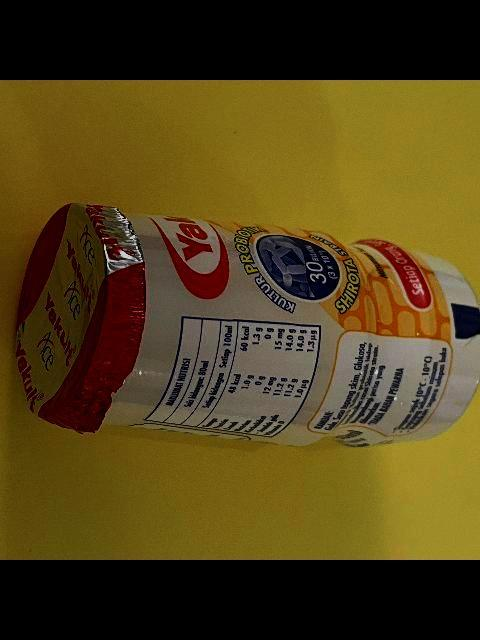plasticbottle: (9, 201, 480, 448)
